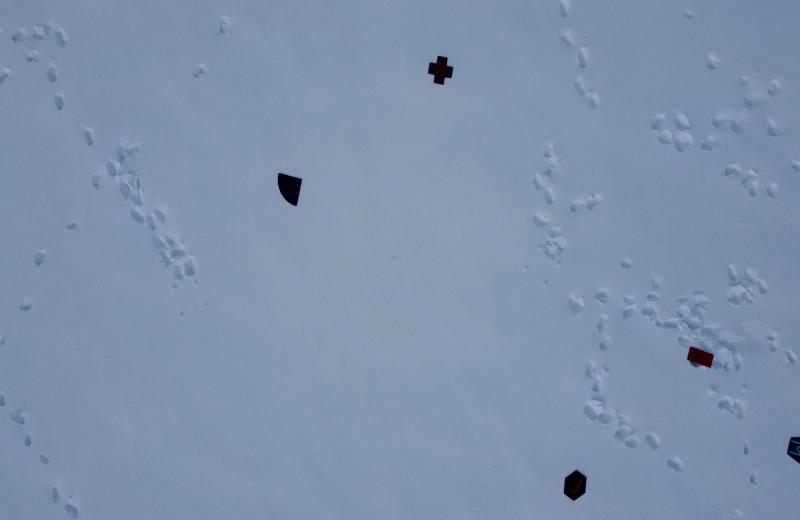Cross: (425, 52, 453, 88)
Hexagon: (562, 467, 593, 503)
Pentagon: (783, 423, 800, 470)
Quarter Circle: (274, 163, 306, 211)
Rectangle: (1, 0, 800, 520), (684, 339, 714, 374)
